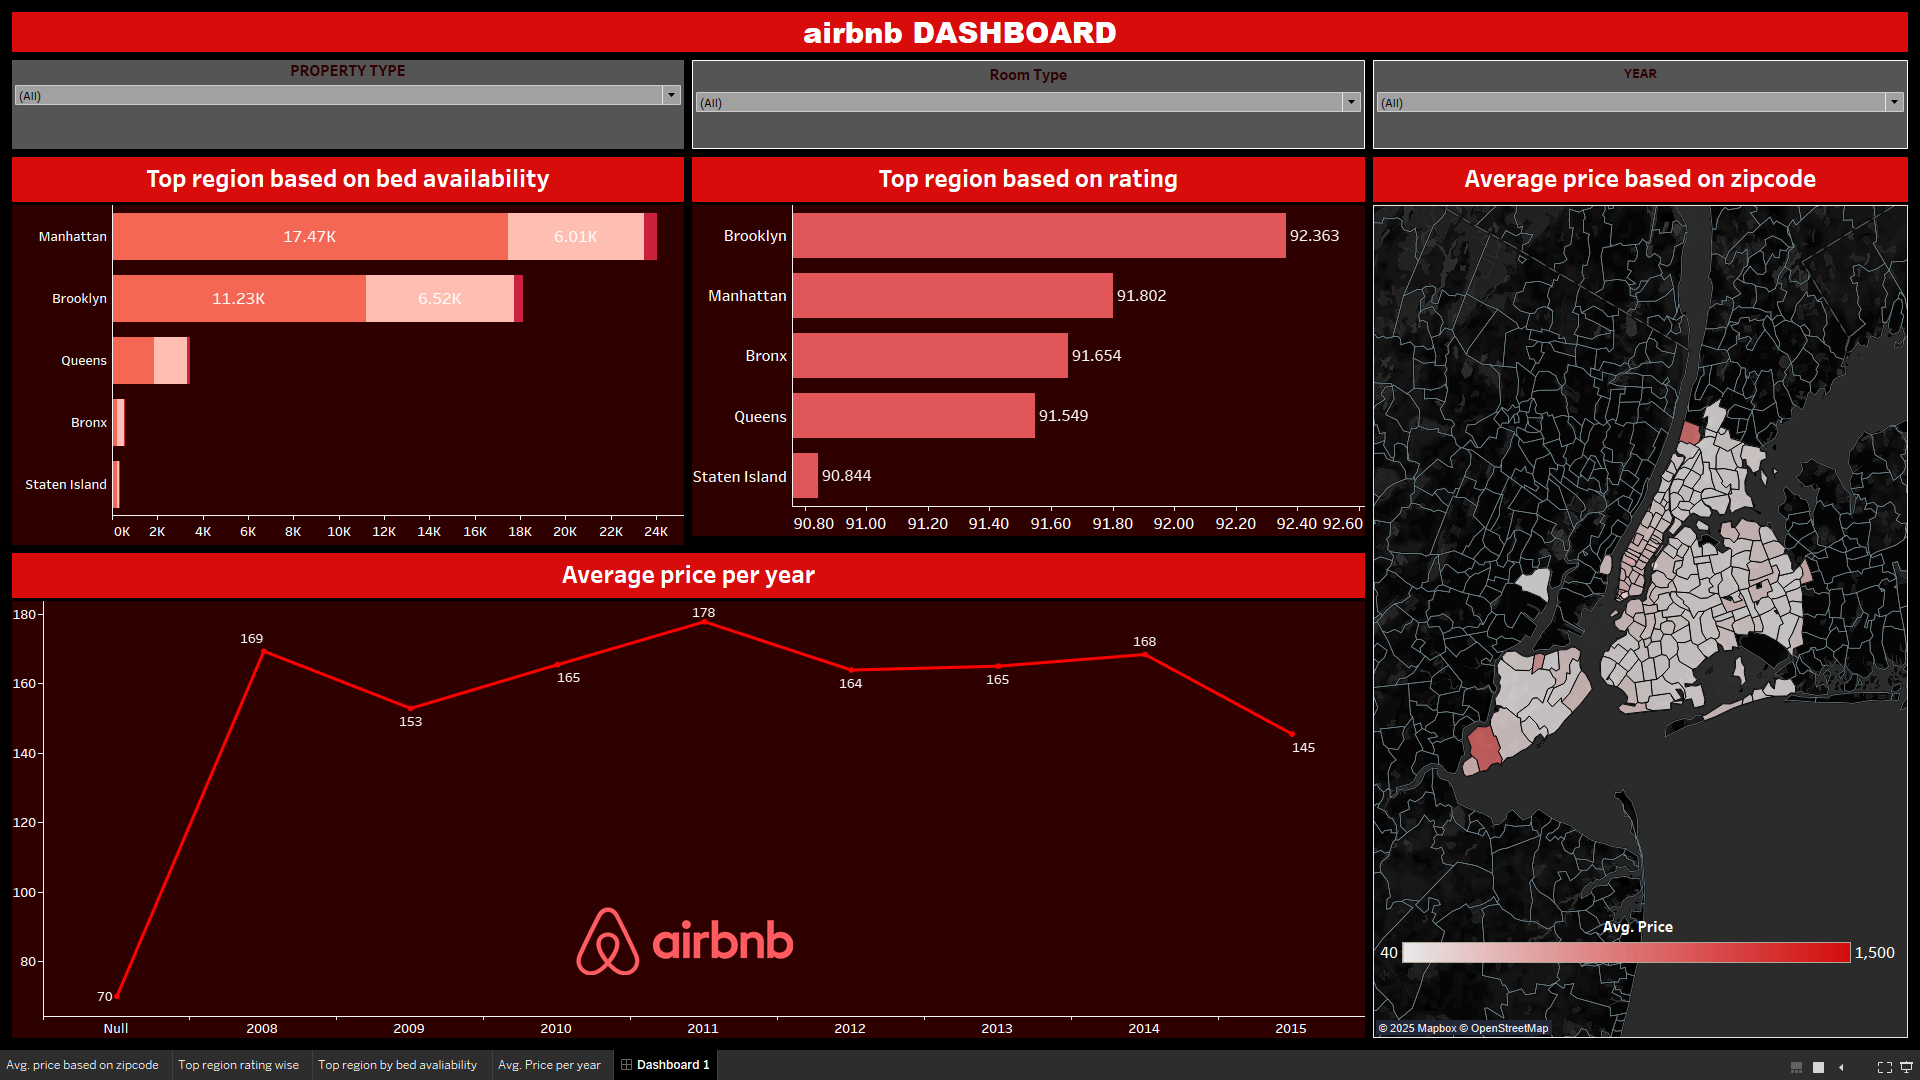

Layout of this report page (visuals, bound fields, positions):
{"tool":"tableau","page":{"name":"Dashboard 1","canvas":[1000,1000],"units":"permille","ordinal":0},"visuals":[{"type":"title","box":[6.5,11.5,987,68.9]},{"type":"filter","title":"Top region by bed avaliability","param":"[federated.1t6ga5g0kjomha132jso9130qods].[none:Property Type:nk]","box":[6.5,80.4,352.7,89.5]},{"type":"filter","title":"Top region rating wise","param":"[federated.1t6ga5g0kjomha132jso9130qods].[none:Room Type:nk]","box":[359.2,80.4,352.8,89.5]},{"type":"filter","title":"Top region rating wise","param":"[federated.1t6ga5g0kjomha132jso9130qods].[yr:Host Since:ok]","box":[712,80.4,281.5,89.5]},{"type":"worksheet","title":"Top region by bed avaliability","mark":"Automatic","rows":["Neighbourhood"],"cols":["Beds"],"box":[6.5,169.9,352.7,364.5]},{"type":"worksheet","title":"Top region rating wise","mark":"Automatic","rows":["Neighbourhood"],"cols":["Review Scores Rating"],"box":[359.2,169.9,352.8,364.5]},{"type":"worksheet","title":"Avg. price based on zipcode","mark":"Automatic","box":[712,169.9,281.5,818.6]},{"type":"worksheet","title":"Avg. Price per year","mark":"Automatic","rows":["Price"],"cols":["Host Since"],"box":[6.5,534.4,705.5,454.1]},{"type":"image","param":"Image/580b57fcd9996e24bc43c513.png","box":[300.2,863.7,177.4,64.6]},{"type":"legend","title":"Avg. price based on zipcode","param":"[federated.1t6ga5g0kjomha132jso9130qods].[avg:Price:qk]","box":[716.8,871.9,272.8,87]}]}

Visuals, with their boxes on the dashboard's canvas, which has no fixed pixel size, in thousandths of its width and height (x1, y1, x2, y2). These are canvas units, not pixel positions in the 1920x1080 screenshot, which may show the page scaled, cropped or inside an application window:
title: bbox(6, 12, 994, 80)
"Top region by bed avaliability" filter: bbox(6, 80, 359, 170)
"Top region rating wise" filter: bbox(359, 80, 712, 170)
"Top region rating wise" filter: bbox(712, 80, 994, 170)
"Top region by bed avaliability" worksheet: bbox(6, 170, 359, 534)
"Top region rating wise" worksheet: bbox(359, 170, 712, 534)
"Avg. price based on zipcode" worksheet: bbox(712, 170, 994, 988)
"Avg. Price per year" worksheet: bbox(6, 534, 712, 988)
image: bbox(300, 864, 478, 928)
"Avg. price based on zipcode" legend: bbox(717, 872, 990, 959)
